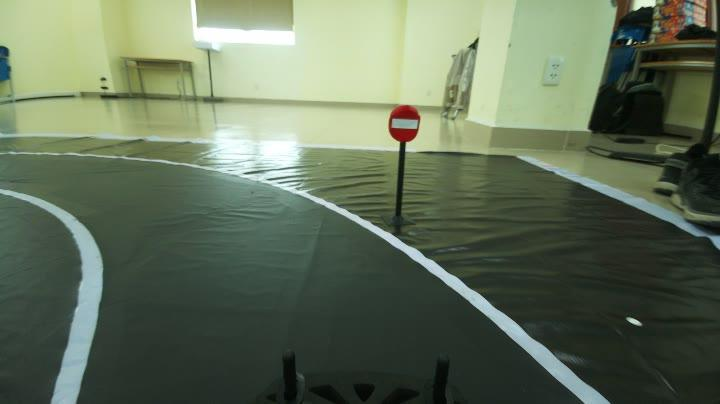no_entry: (385, 100, 418, 142)
